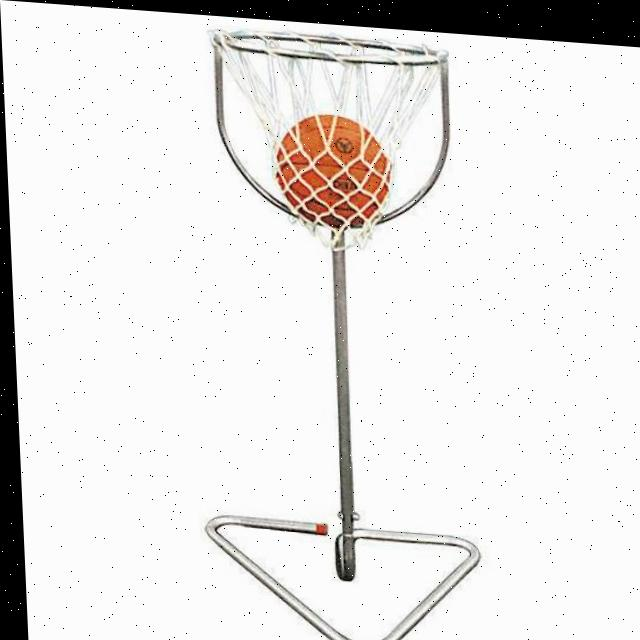Basketball: (275, 110, 395, 233)
hoop: (207, 24, 457, 260)
